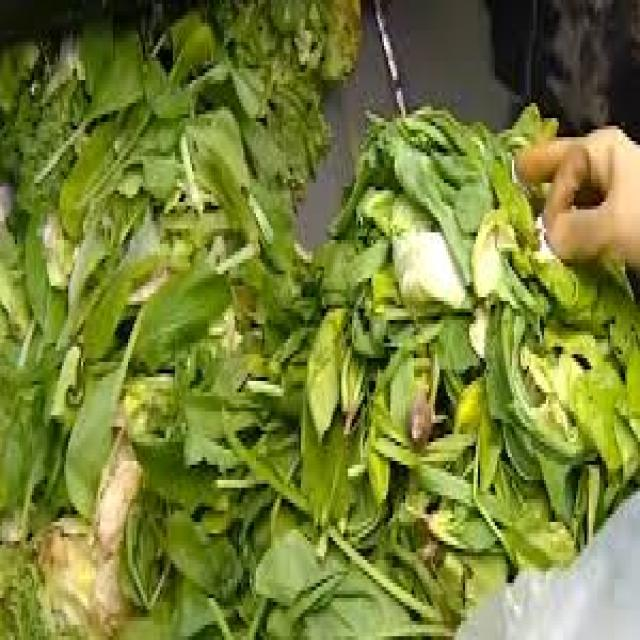food_waste: (0, 0, 638, 636)
